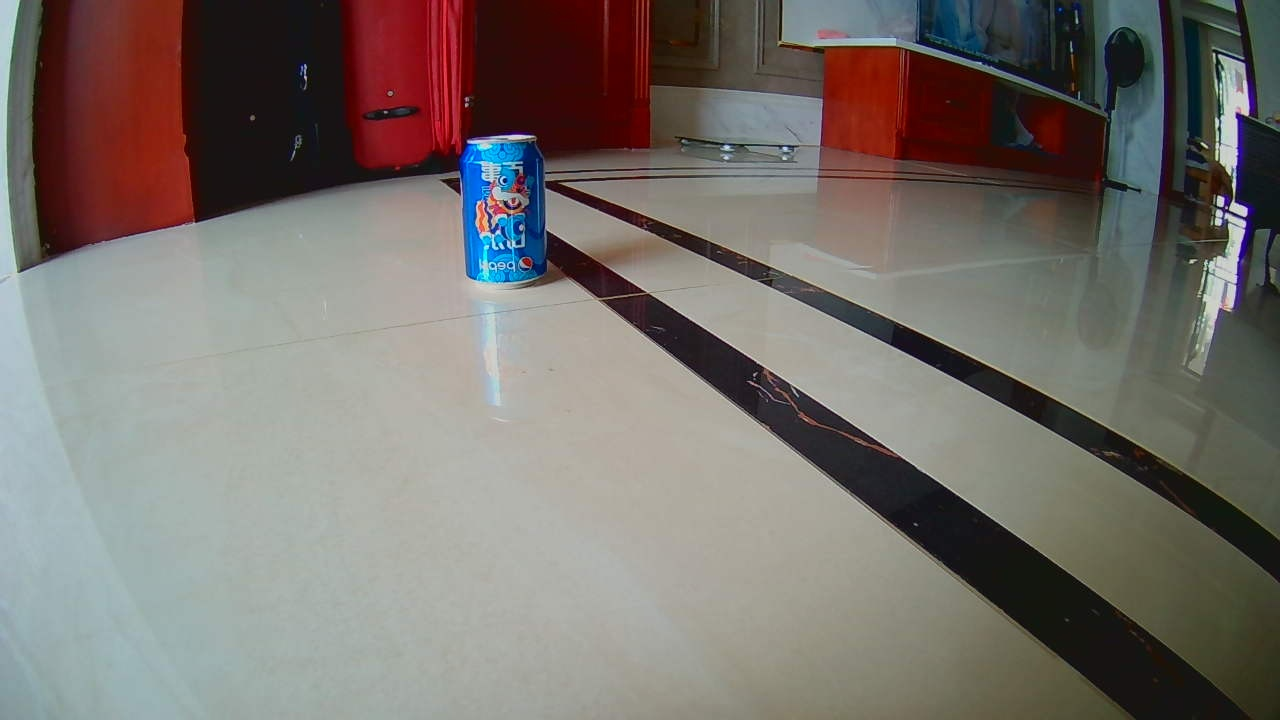pessi: (457, 136, 547, 286)
